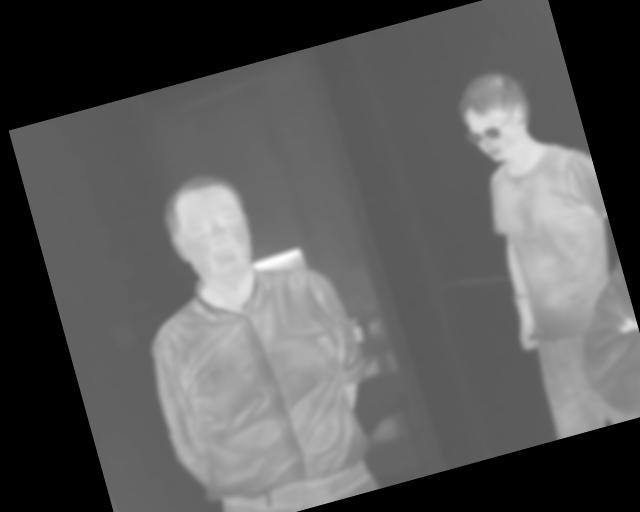face: (155, 163, 265, 298), (451, 61, 542, 170)
